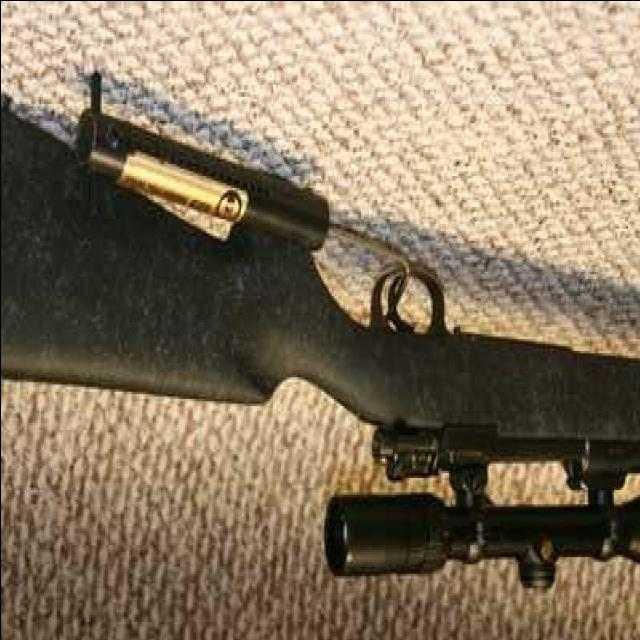heavyweapon: (70, 128, 640, 605)
